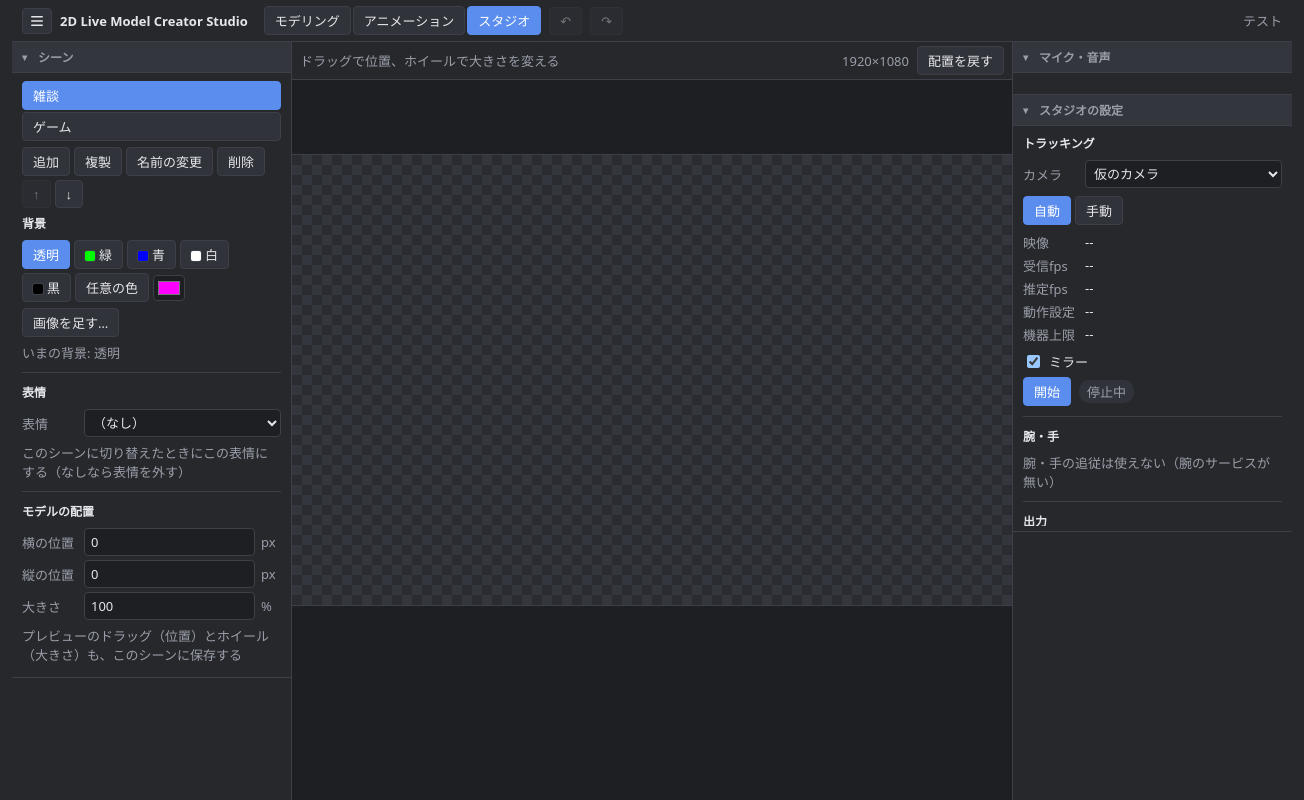
シーンの一覧 › 最後の1つは削除できない
What coordinates should you click on to do the following:
click the button "削除"
I would click on:
 (241, 162)
Its box is [217,147,265,176].
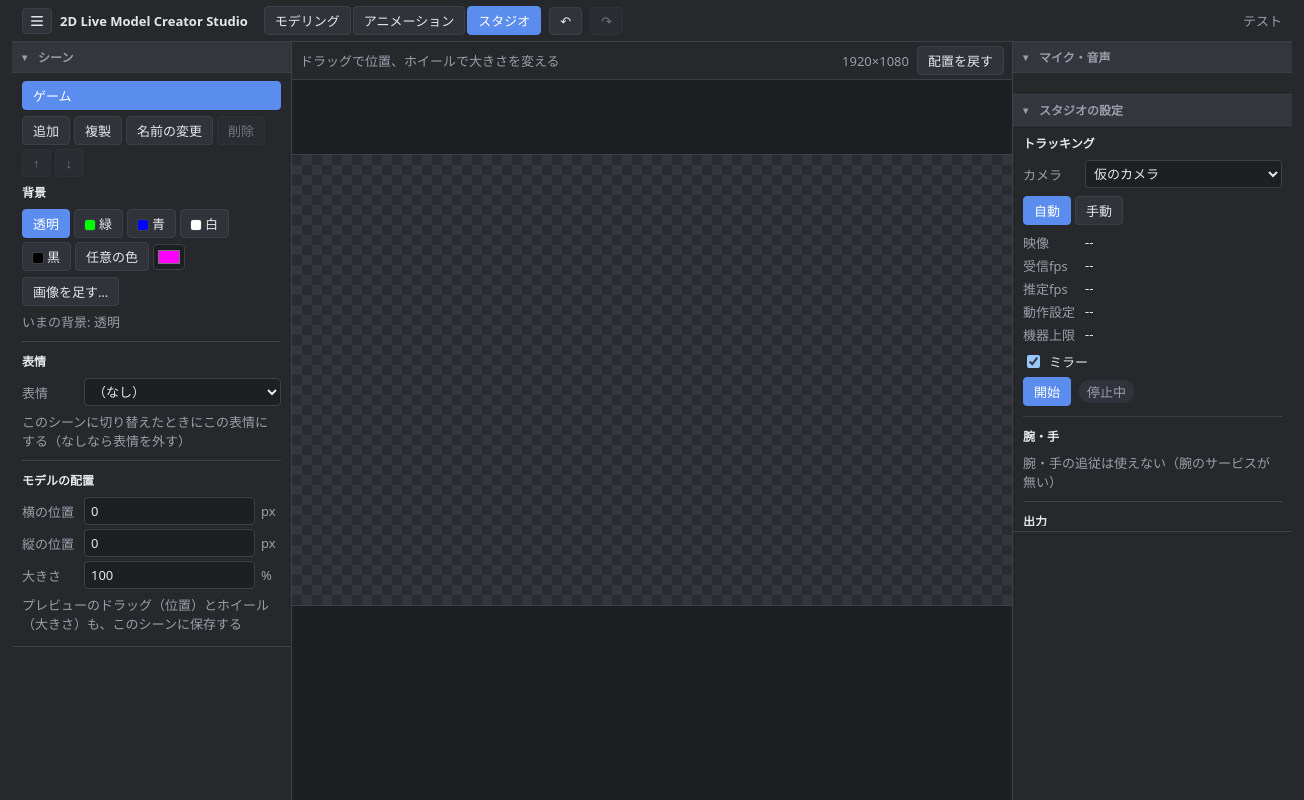
Check: the button "削除" is disabled, box [217,116,265,145]
